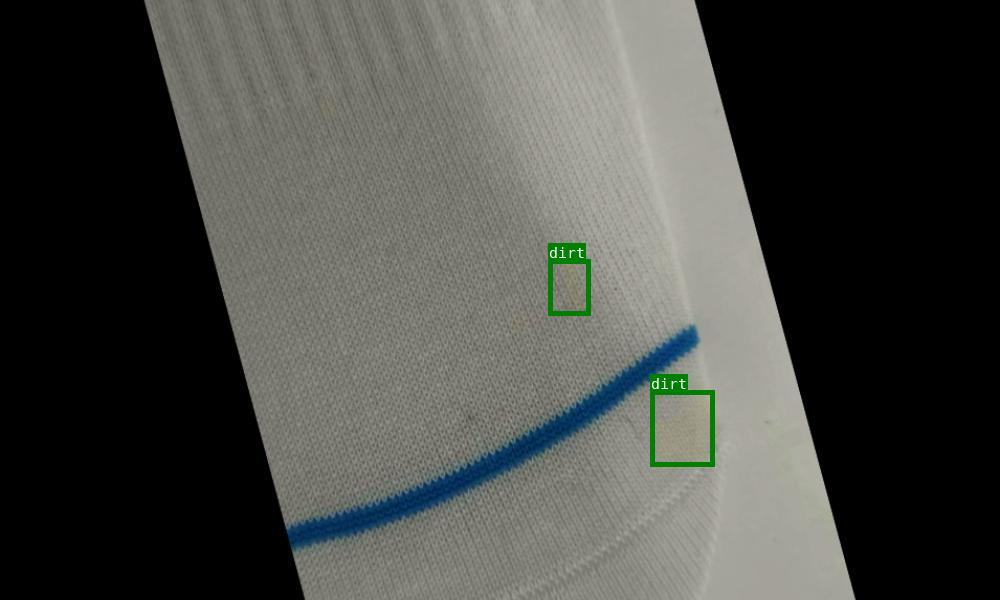dirt: (650, 390, 714, 466), (548, 259, 590, 315)
